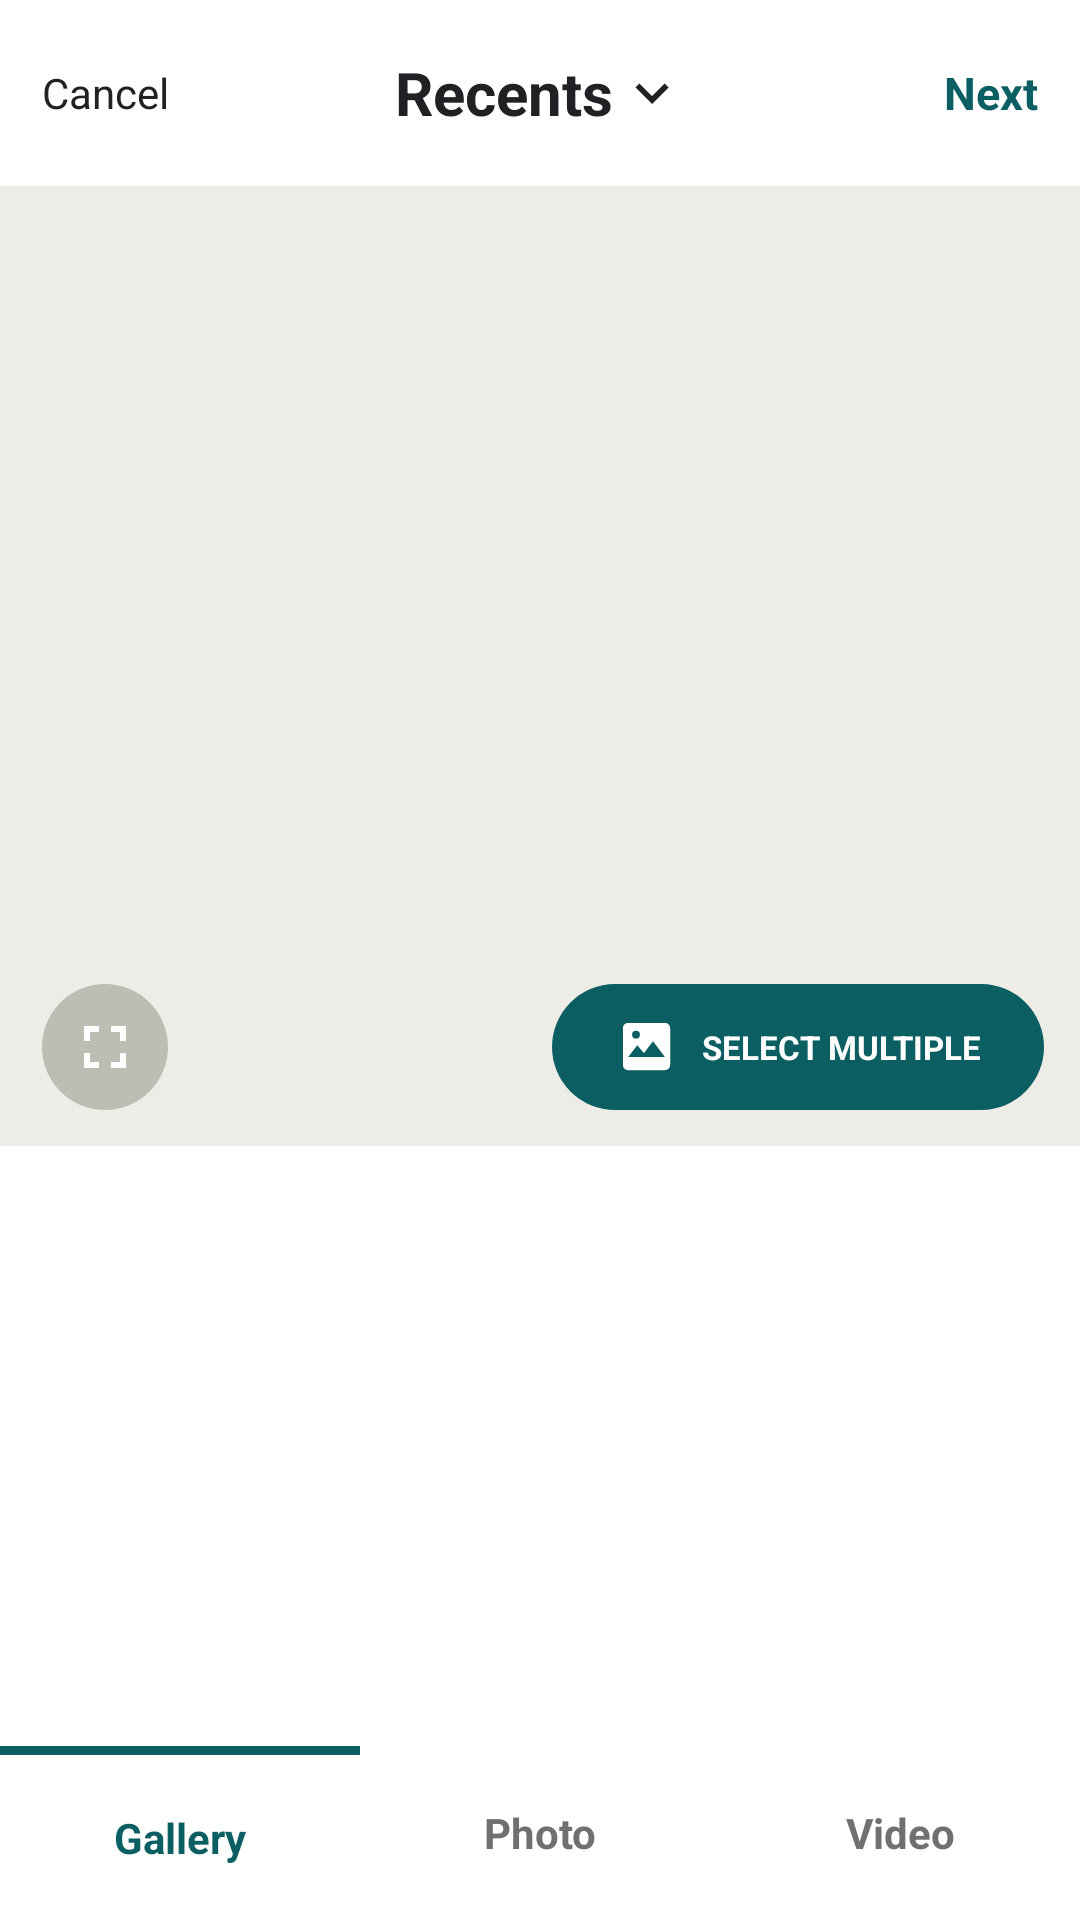

Icon click points for this 1080x1920 phone screenshot, format [x,y]:
chevron down: [652,93]
Full screen: [105,1047]
